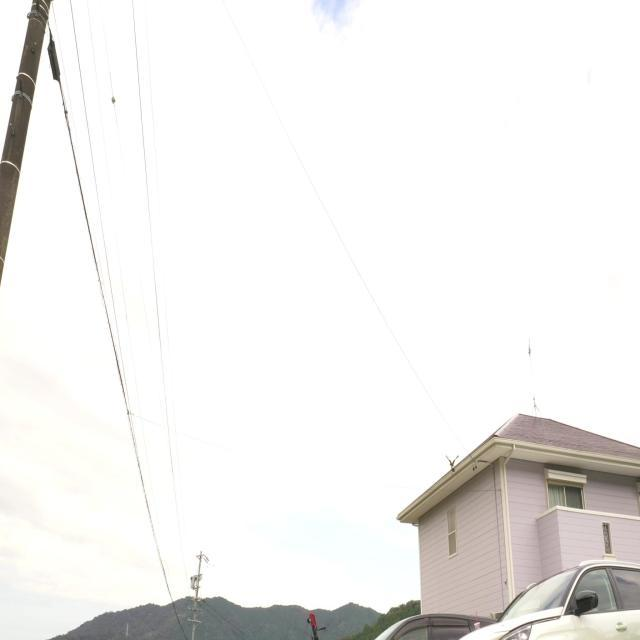Birds: (443, 446, 462, 477)
